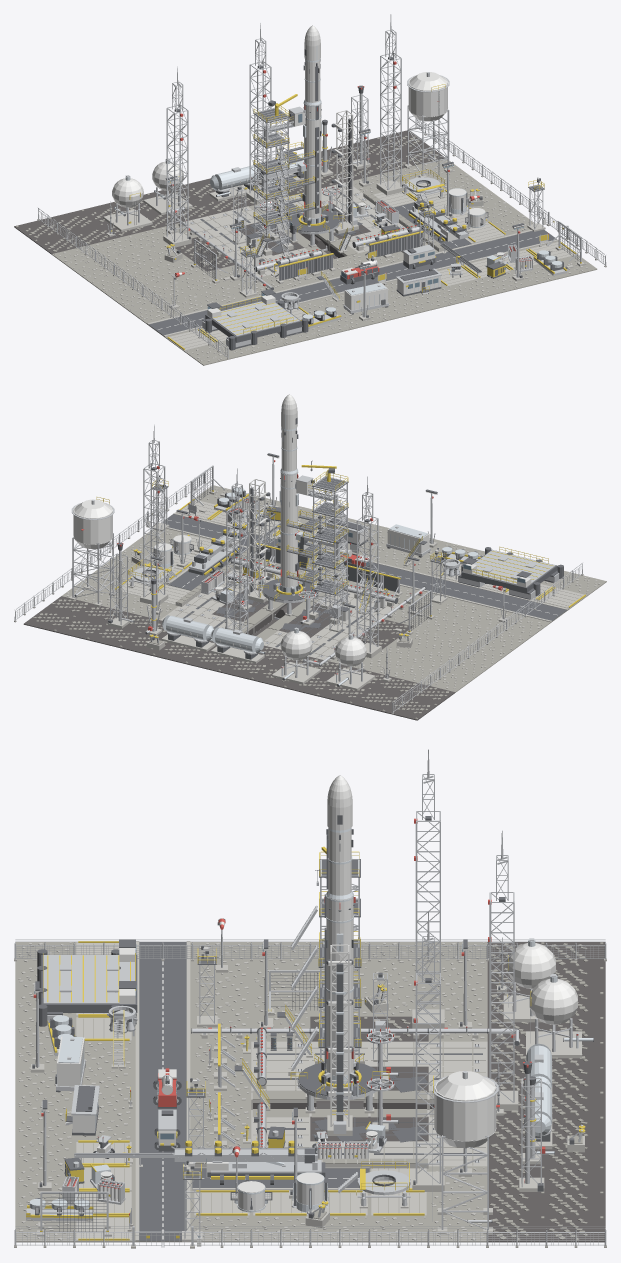
The model's file is roket.glb.
The picture shows the model from 3 angles, top to bottom: view 1: azimuth 30°, elevation 25°; view 2: azimuth 150°, elevation 25°; view 3: azimuth 270°, elevation 25°; orthographic projection. The views are drawn at different scales.
Visible parts, largest first — view 1: 167-lightning-mast/1, 168-lightning-mast/1, 199-crawler-transporter-deck/1, 174-water-tower/2, 169-lightning-mast/1, 174-water-tower/0, 128-strongback/1, 122-first-stage-core/0, 199-crawler-transporter-deck/0, 161-propellant-cylinder-tank/3, 164-flare-stack/1, 159-propellant-sphere-tank/2 (+47 smaller); view 2: 167-lightning-mast/1, 169-lightning-mast/1, 168-lightning-mast/1, 199-crawler-transporter-deck/1, 174-water-tower/2, 122-first-stage-core/0, 174-water-tower/0, 128-strongback/1, 199-crawler-transporter-deck/0, 164-flare-stack/1, 161-propellant-cylinder-tank/3, 162-propellant-cylinder-tank/3 (+60 smaller); view 3: 174-water-tower/2, 199-crawler-transporter-deck/1, 169-lightning-mast/1, 168-lightning-mast/1, 122-first-stage-core/0, 167-lightning-mast/1, 174-water-tower/0, 160-propellant-sphere-tank/2, 199-crawler-transporter-deck/0, 159-propellant-sphere-tank/2, 128-strongback/1, 200-transporter-erector/erector/steel (+100 smaller).
Boxes of the visible parts, bbox=[...] form: 167-lightning-mast/1: bbox=[166, 66, 188, 242]; 168-lightning-mast/1: bbox=[380, 14, 401, 189]; 199-crawler-transporter-deck/1: bbox=[202, 301, 301, 347]; 174-water-tower/2: bbox=[408, 72, 448, 121]; 169-lightning-mast/1: bbox=[249, 23, 271, 198]; 174-water-tower/0: bbox=[407, 72, 449, 175]; 128-strongback/1: bbox=[334, 110, 353, 228]; 122-first-stage-core/0: bbox=[304, 118, 321, 218]; 199-crawler-transporter-deck/0: bbox=[202, 289, 308, 350]; 161-propellant-cylinder-tank/3: bbox=[210, 165, 261, 196]; 164-flare-stack/1: bbox=[351, 93, 369, 166]; 159-propellant-sphere-tank/2: bbox=[112, 178, 143, 207]; 167-lightning-mast/1: bbox=[356, 476, 378, 652]; 169-lightning-mast/1: bbox=[226, 468, 248, 634]; 168-lightning-mast/1: bbox=[143, 424, 165, 597]; 199-crawler-transporter-deck/1: bbox=[458, 550, 559, 599]; 174-water-tower/2: bbox=[73, 499, 112, 548]; 122-first-stage-core/0: bbox=[280, 487, 297, 587]; 174-water-tower/0: bbox=[71, 499, 114, 603]; 128-strongback/1: bbox=[249, 479, 267, 597]; 199-crawler-transporter-deck/0: bbox=[458, 547, 563, 599]; 164-flare-stack/1: bbox=[110, 550, 133, 625]; 161-propellant-cylinder-tank/3: bbox=[211, 627, 263, 653]; 162-propellant-cylinder-tank/3: bbox=[162, 615, 213, 641]; 174-water-tower/2: bbox=[434, 1071, 496, 1148]; 199-crawler-transporter-deck/1: bbox=[43, 955, 135, 1025]; 169-lightning-mast/1: bbox=[489, 830, 514, 1102]; 168-lightning-mast/1: bbox=[415, 911, 440, 1183]; 122-first-stage-core/0: bbox=[326, 919, 353, 1075]; 167-lightning-mast/1: bbox=[415, 749, 440, 1021]; 174-water-tower/0: bbox=[432, 1071, 498, 1229]; 160-propellant-sphere-tank/2: bbox=[529, 979, 577, 1024]; 199-crawler-transporter-deck/0: bbox=[37, 939, 137, 1026]; 159-propellant-sphere-tank/2: bbox=[507, 943, 555, 988]; 128-strongback/1: bbox=[328, 944, 351, 1126]; 200-transporter-erector/erector/steel: bbox=[171, 1146, 314, 1161].
Size of the model in its own units: 98.35 by 51.84 by 80.4.
